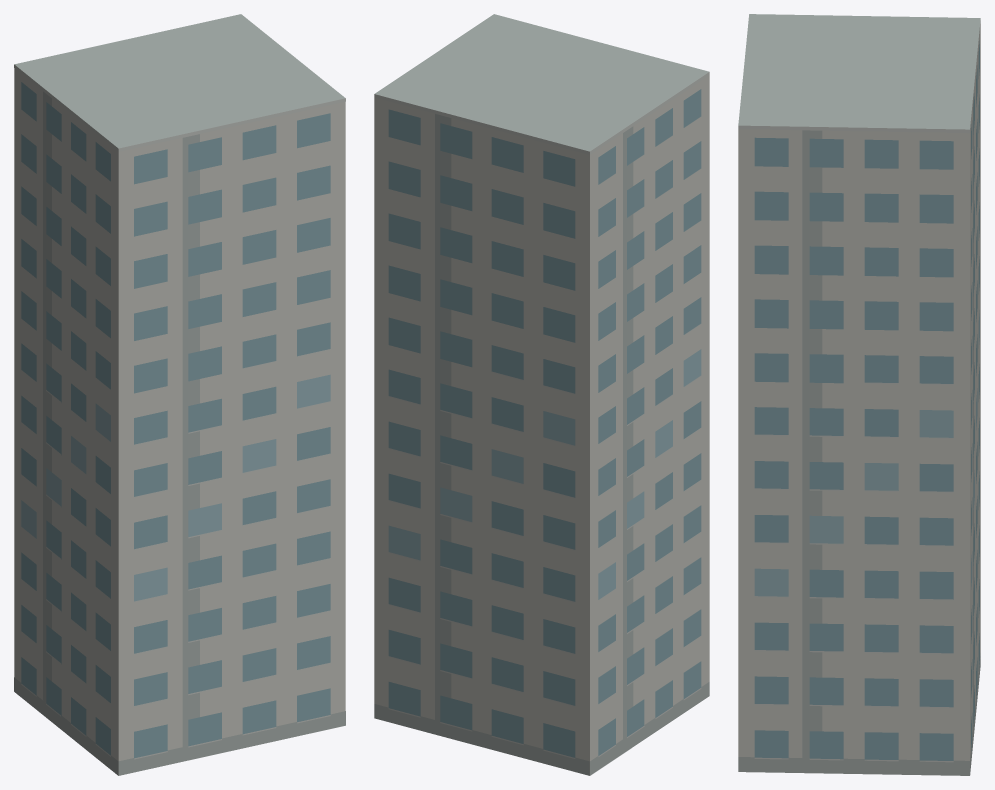
Rendered from residential-b5329557-4ec7-450f-ad96-2099e6f1b811.glb.
The picture shows the model from 3 angles, left to right: view 1: azimuth 30°, elevation 25°; view 2: azimuth 150°, elevation 25°; view 3: azimuth 270°, elevation 25°; orthographic projection. The views are drawn at different scales.
Visible parts, largest first — view 1: residential-b5329557-4ec7-450f-ad96-2099e6f1b811.tmp; view 2: residential-b5329557-4ec7-450f-ad96-2099e6f1b811.tmp; view 3: residential-b5329557-4ec7-450f-ad96-2099e6f1b811.tmp.
Part boxes in pixels (<box>): residential-b5329557-4ec7-450f-ad96-2099e6f1b811.tmp: <box>14,14,345,775</box>; residential-b5329557-4ec7-450f-ad96-2099e6f1b811.tmp: <box>374,14,709,775</box>; residential-b5329557-4ec7-450f-ad96-2099e6f1b811.tmp: <box>738,14,980,775</box>.
Bounding box in the file's own units: 16.5 × 43 × 14.63.
